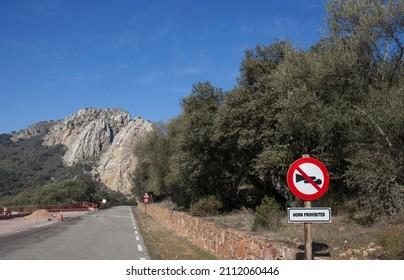Horn Prohibited: (282, 155, 330, 202)
